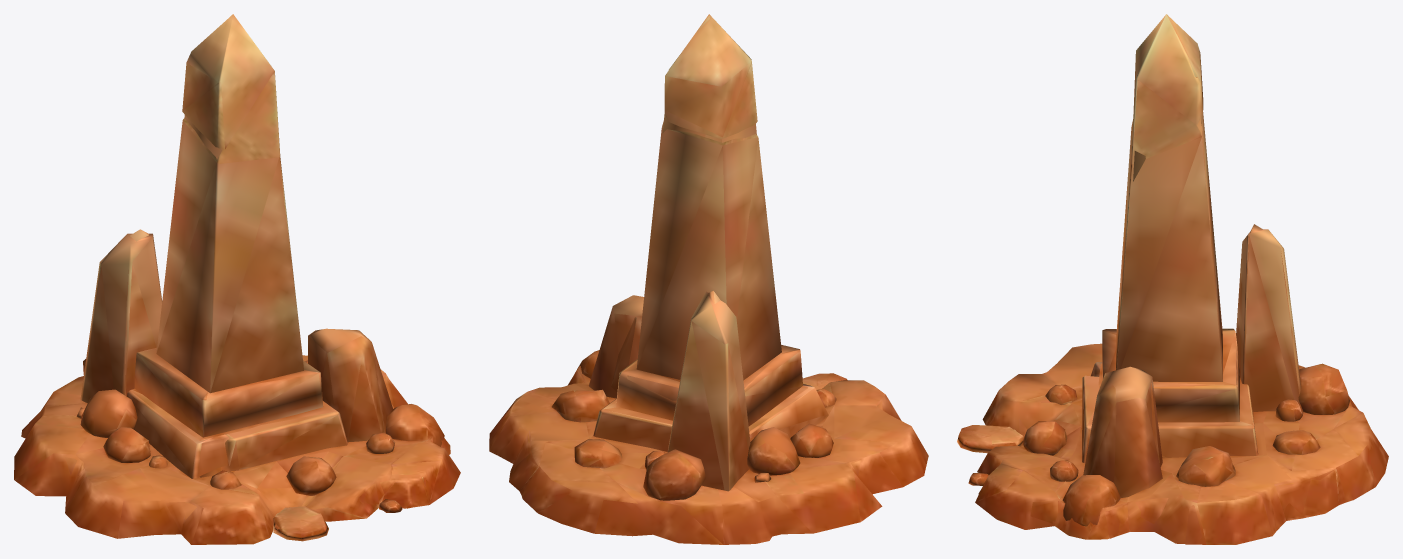
Rendered from desert_monument_2_low.glb.
The picture shows the model from 3 angles, left to right: view 1: azimuth 30°, elevation 25°; view 2: azimuth 150°, elevation 25°; view 3: azimuth 270°, elevation 25°; orthographic projection.
Parts seen in each view (by area): view 1: Mesh_0.008; view 2: Mesh_0.008; view 3: Mesh_0.008.
Boxes of the visible parts, <box> form: Mesh_0.008: <box>14,14,460,544</box>; Mesh_0.008: <box>489,14,928,544</box>; Mesh_0.008: <box>957,14,1388,544</box>.
Bounding box in the file's own units: 0.879 × 1 × 0.8887.
1 material, 1 textured.
